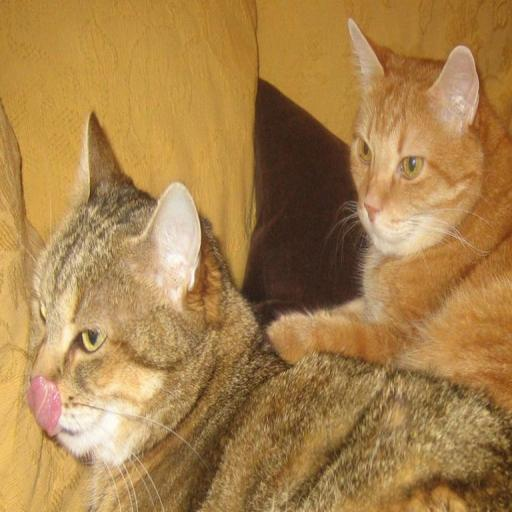cat: (26, 112, 512, 512), (266, 18, 512, 417)
